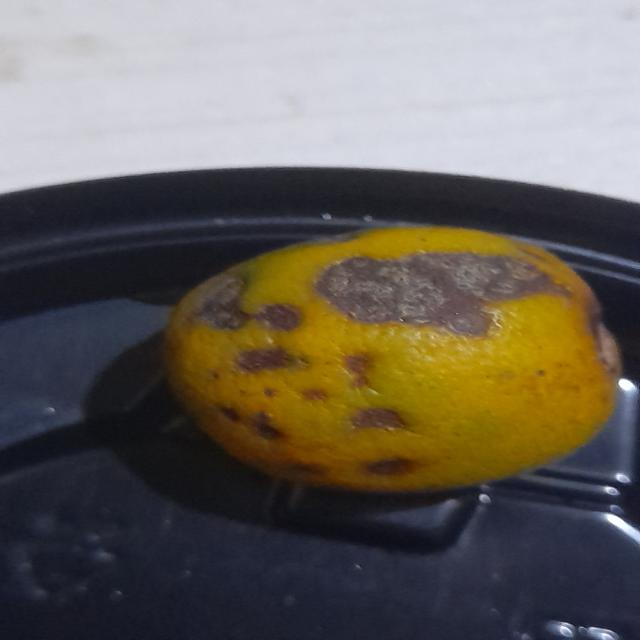black spot: (142, 228, 635, 510)
